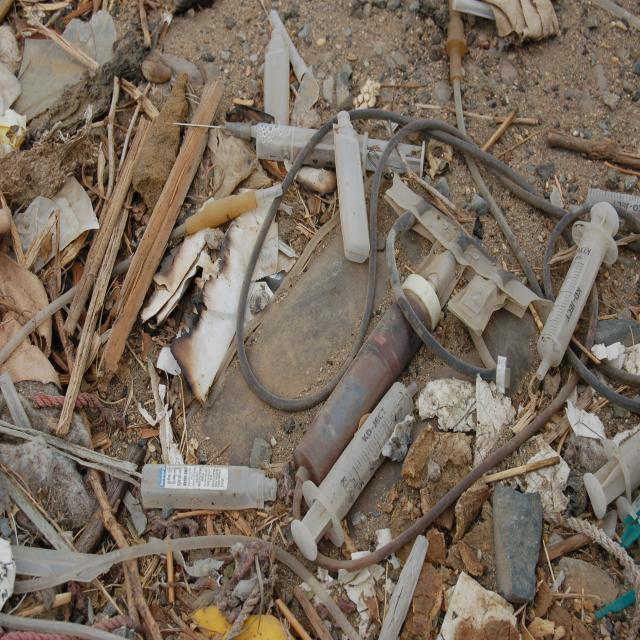garbage: (0, 53, 629, 630)
